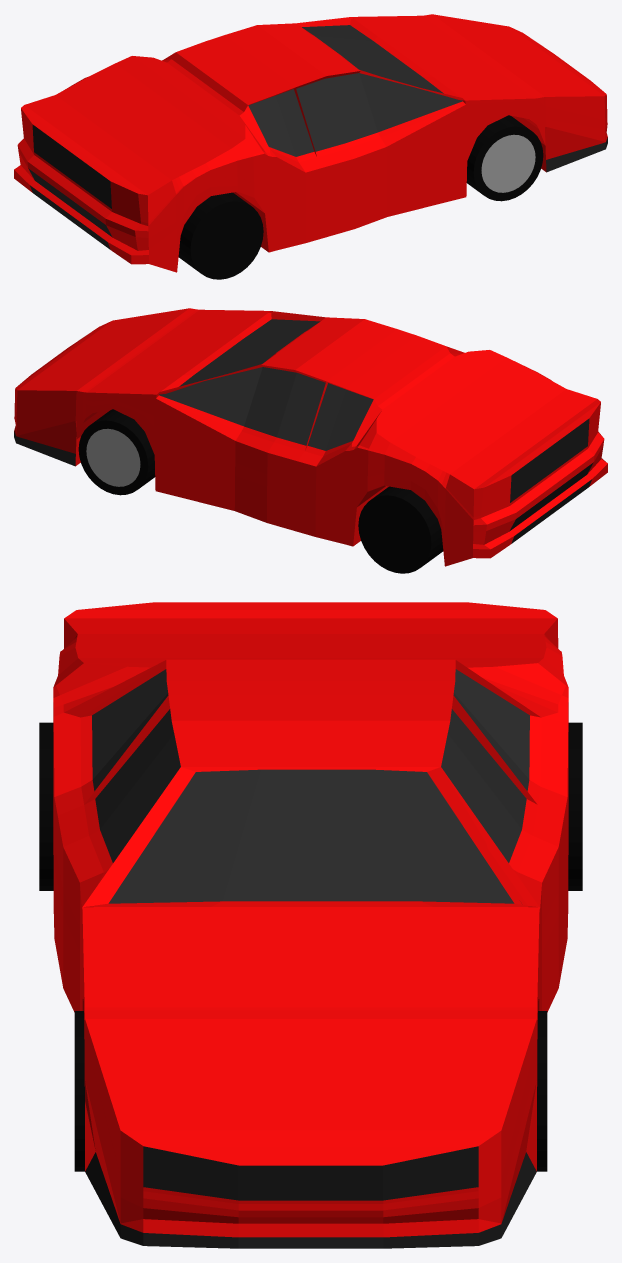
File: Jasin_Aferkou_71963_Auto.fbx
3 views of the same model, one above another, from view 1: azimuth 30°, elevation 25°; view 2: azimuth 150°, elevation 25°; view 3: azimuth 270°, elevation 25° (orthographic). The views are drawn at different scales.
Parts seen in each view (by area): view 1: Auto, Rad Hinten, Rad Vorne; view 2: Auto, Rad Hinten, Rad Vorne; view 3: Auto, Rad Hinten, Rad Vorne.
Part boxes in pixels (bbox=[...]): Auto: bbox=[14, 14, 607, 272]; Rad Hinten: bbox=[178, 192, 263, 279]; Rad Vorne: bbox=[466, 115, 543, 201]; Auto: bbox=[14, 308, 607, 566]; Rad Hinten: bbox=[358, 486, 443, 573]; Rad Vorne: bbox=[78, 409, 155, 495]; Auto: bbox=[53, 602, 568, 1248]; Rad Hinten: bbox=[39, 722, 582, 890]; Rad Vorne: bbox=[74, 1011, 547, 1171].
Size of the model in its own units: 208 by 448 by 124.
